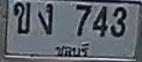3: (110, 6, 126, 36)
4: (92, 5, 107, 36)
7: (75, 4, 91, 35)
A02: (13, 1, 30, 33)
A07: (37, 2, 52, 34)
CBI: (54, 42, 90, 59)
